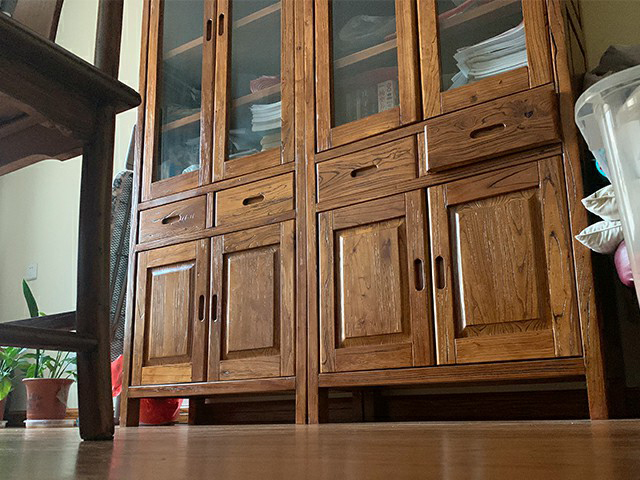cabinet: (116, 69, 599, 424)
stool: (1, 1, 140, 441)
